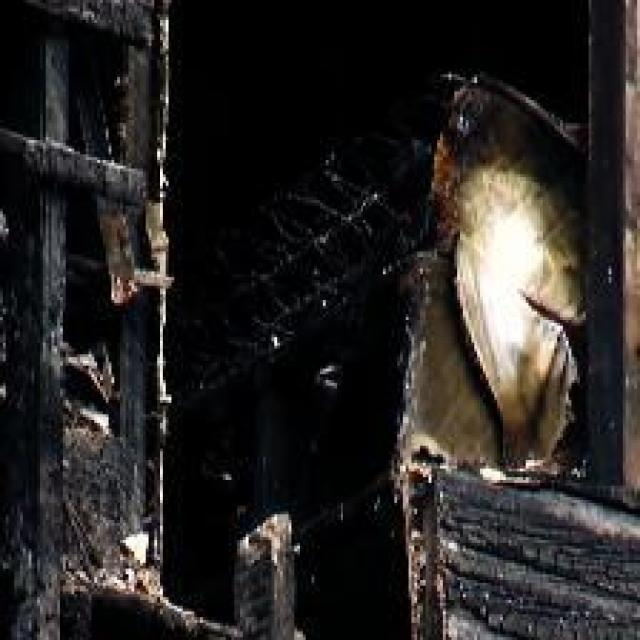other: (477, 220, 547, 356)
